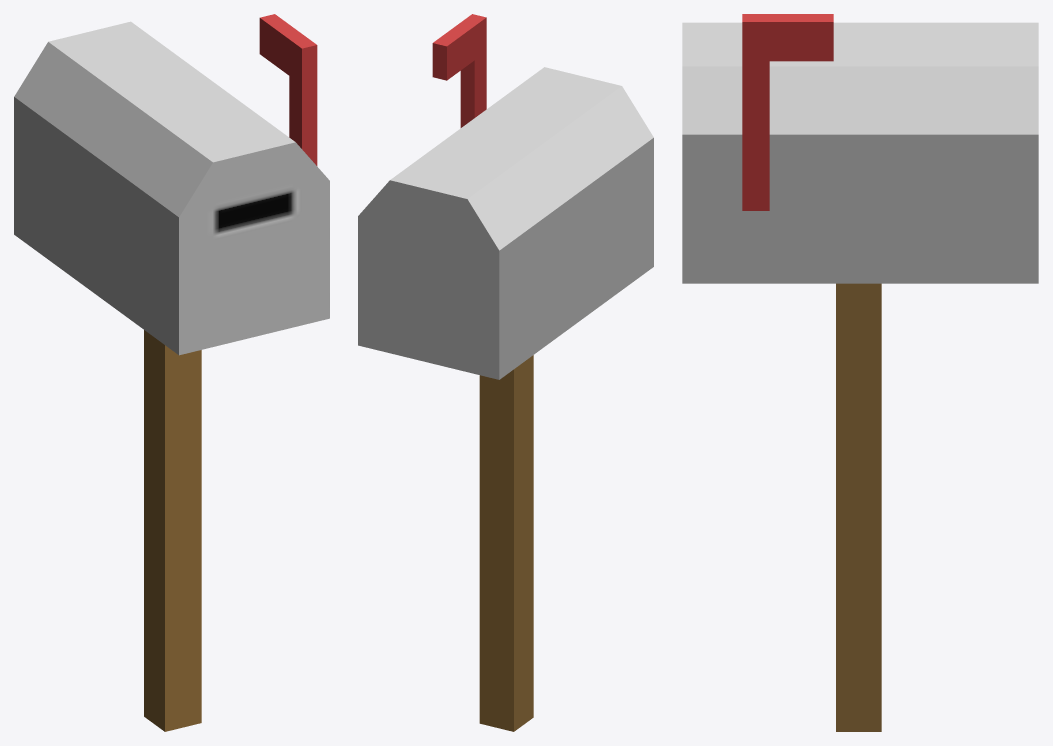
File: SM_MailBox_01.fbx
The picture shows the model from 3 angles, left to right: view 1: azimuth 30°, elevation 25°; view 2: azimuth 150°, elevation 25°; view 3: azimuth 270°, elevation 25°; orthographic projection. The views are drawn at different scales.
Visible parts, largest first — view 1: SM_MailBox_01; view 2: SM_MailBox_01; view 3: SM_MailBox_01.
Part boxes in pixels (x1=…): SM_MailBox_01: x1=14, y1=14, x2=329, y2=731; SM_MailBox_01: x1=358, y1=14, x2=653, y2=731; SM_MailBox_01: x1=682, y1=14, x2=1038, y2=731.
Bounding box in the file's own units: 0.5341 × 2.13 × 0.9192.
